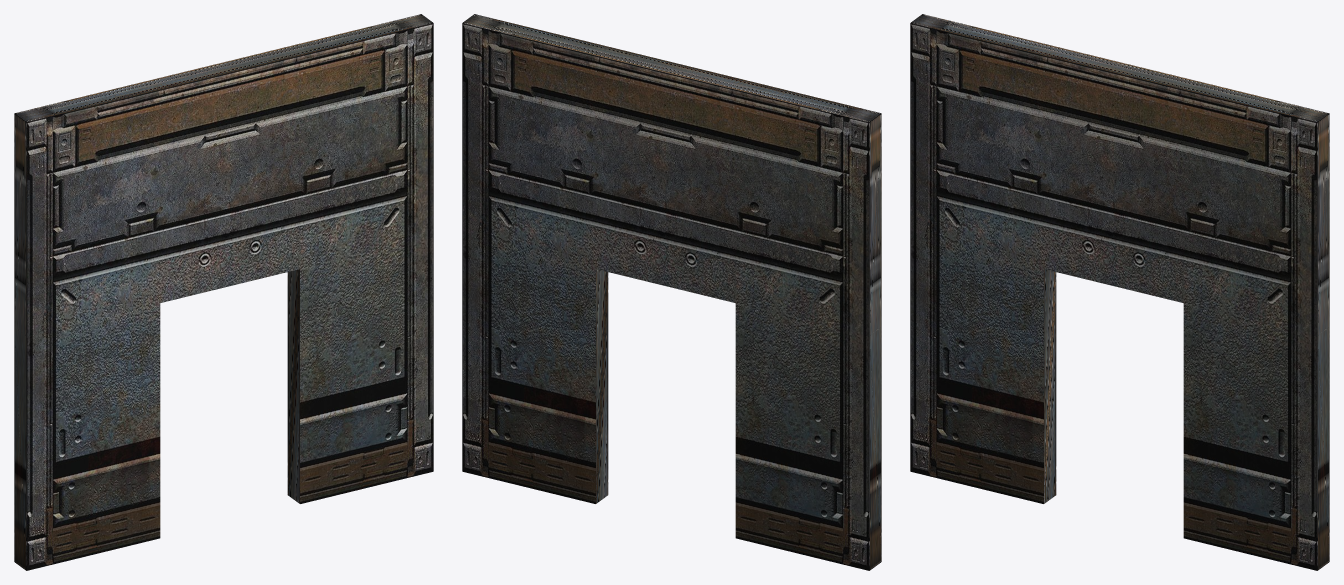
Rendered from doorway_peice.FBX.
The picture shows the model from 3 angles, left to right: view 1: azimuth 30°, elevation 25°; view 2: azimuth 150°, elevation 25°; view 3: azimuth 330°, elevation 25°; orthographic projection.
Parts seen in each view (by area): view 1: doorway_peice; view 2: doorway_peice; view 3: doorway_peice.
Part boxes in pixels (box(x1,y1,x2,y2)): doorway_peice: box(14, 14, 433, 570); doorway_peice: box(462, 14, 881, 570); doorway_peice: box(910, 14, 1329, 570).
Size of what is drawn, in the model's own units: 380 by 20 by 400.
Materials: 1 (1 with a texture image).
